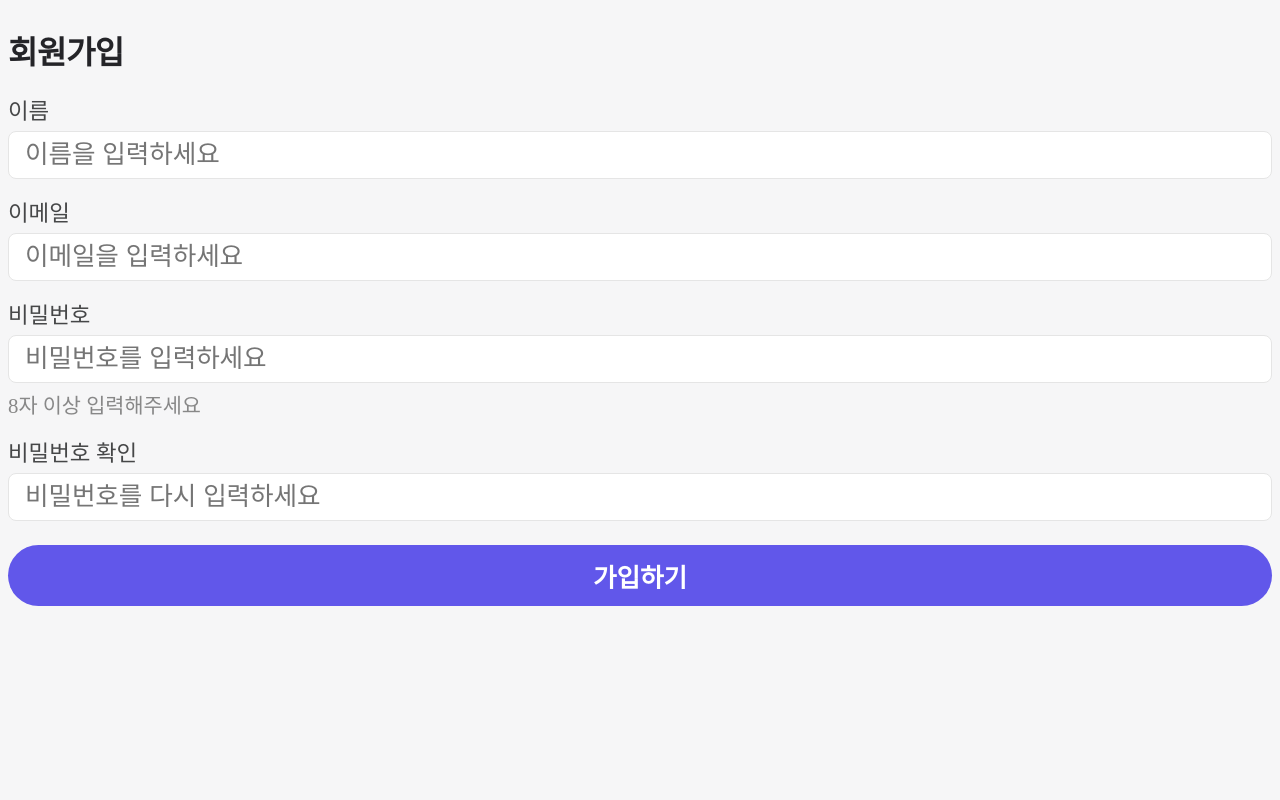
Test: RegisterForm › 비밀번호가 8자 미만이면 에러를 표시한다
Type "테스트" into the field labelled "이름". click: [640, 154]
box: 8,130 -> 1272,178
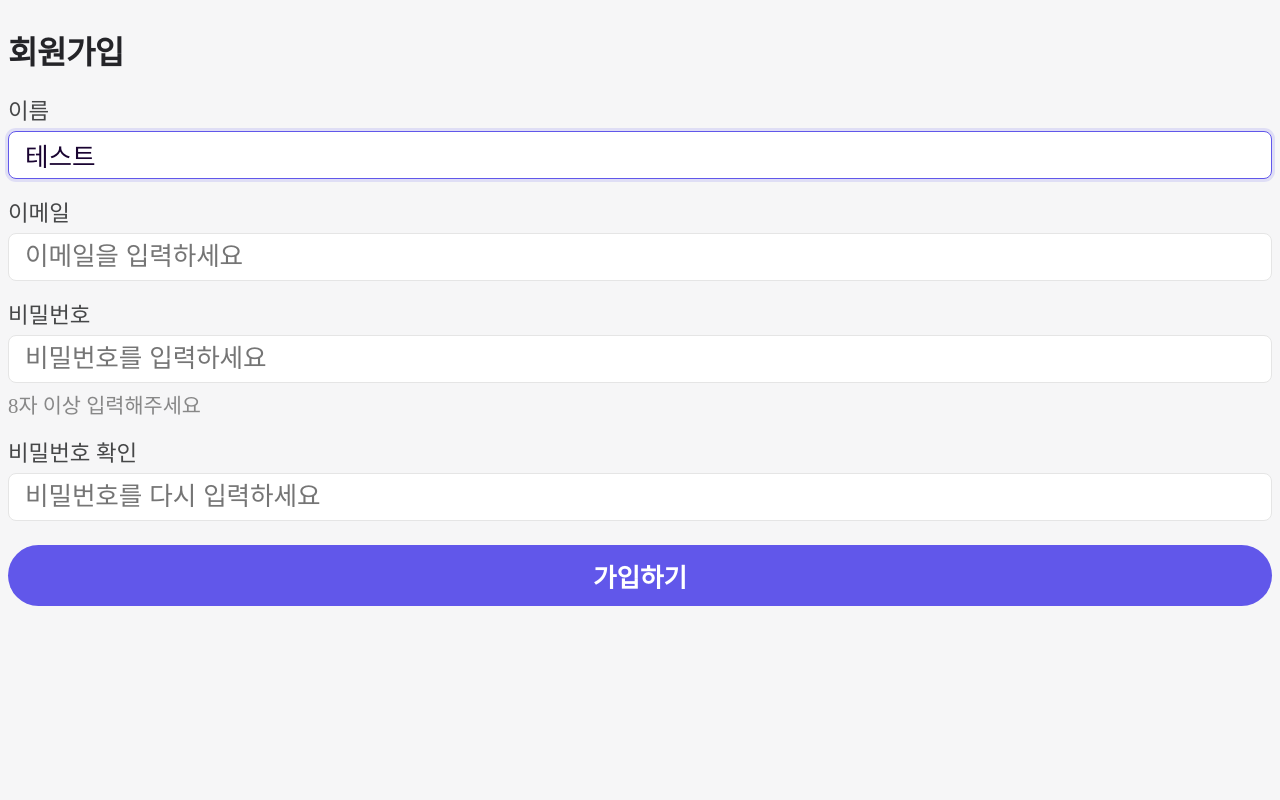
Type "test@example.com" into the field labelled "이메일". click: [640, 256]
box: 8,232 -> 1272,280
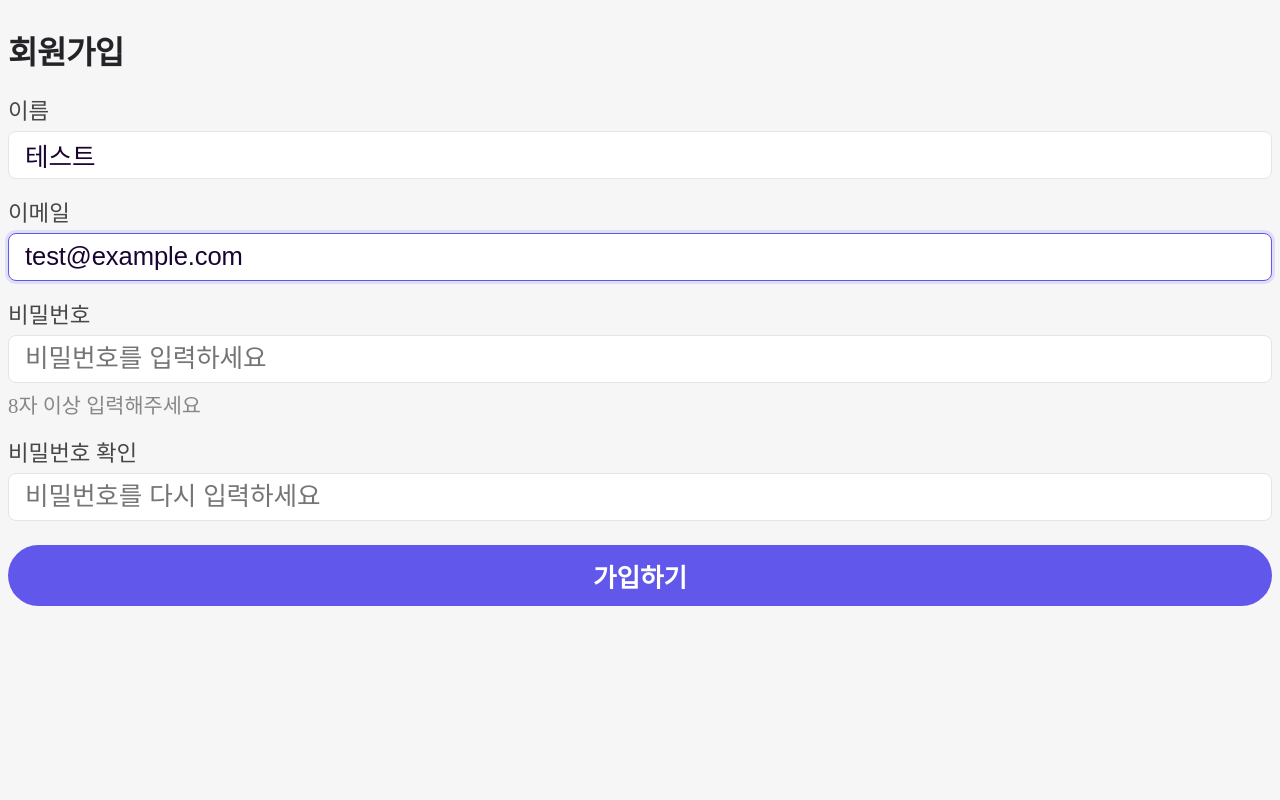
Type "1234567" into the password field labelled "비밀번호". click: [640, 358]
box: 8,334 -> 1272,382
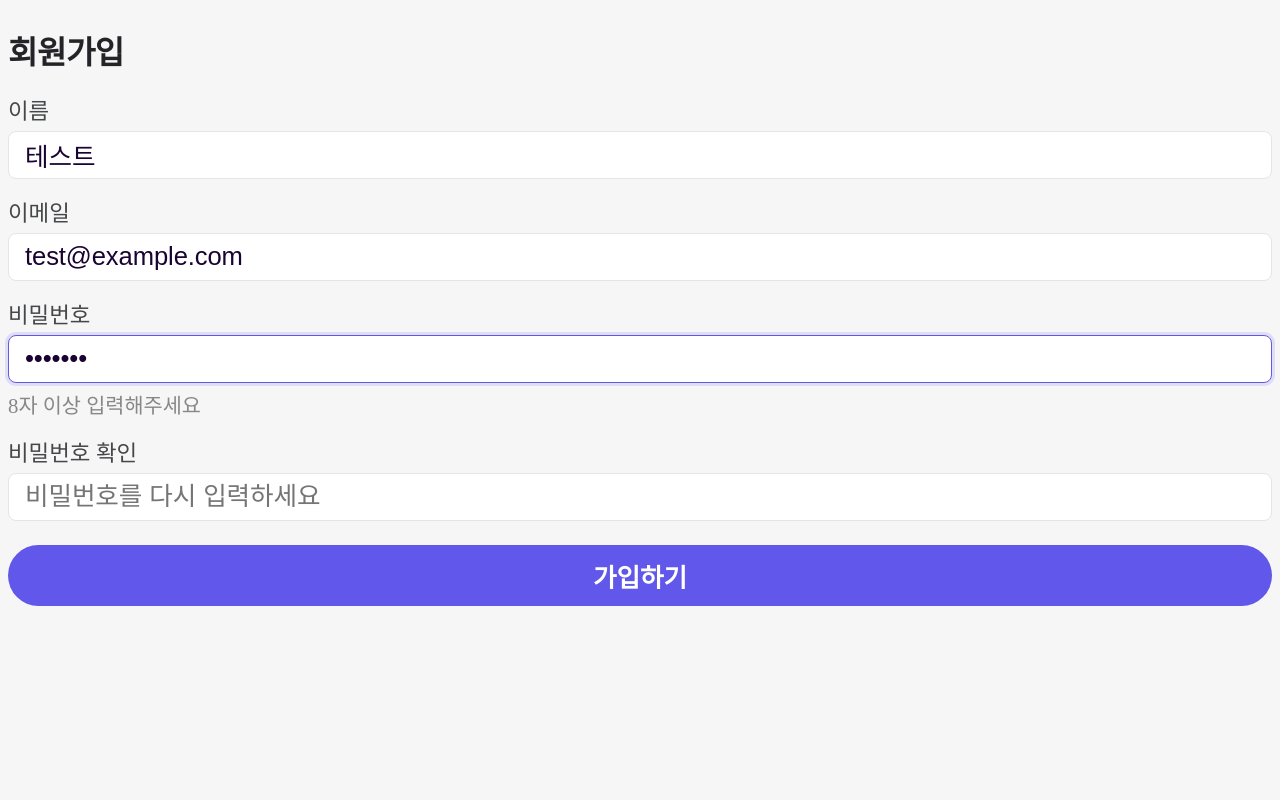
Type "1234567" into the password field labelled "비밀번호 확인". click: [640, 496]
box: 8,472 -> 1272,520
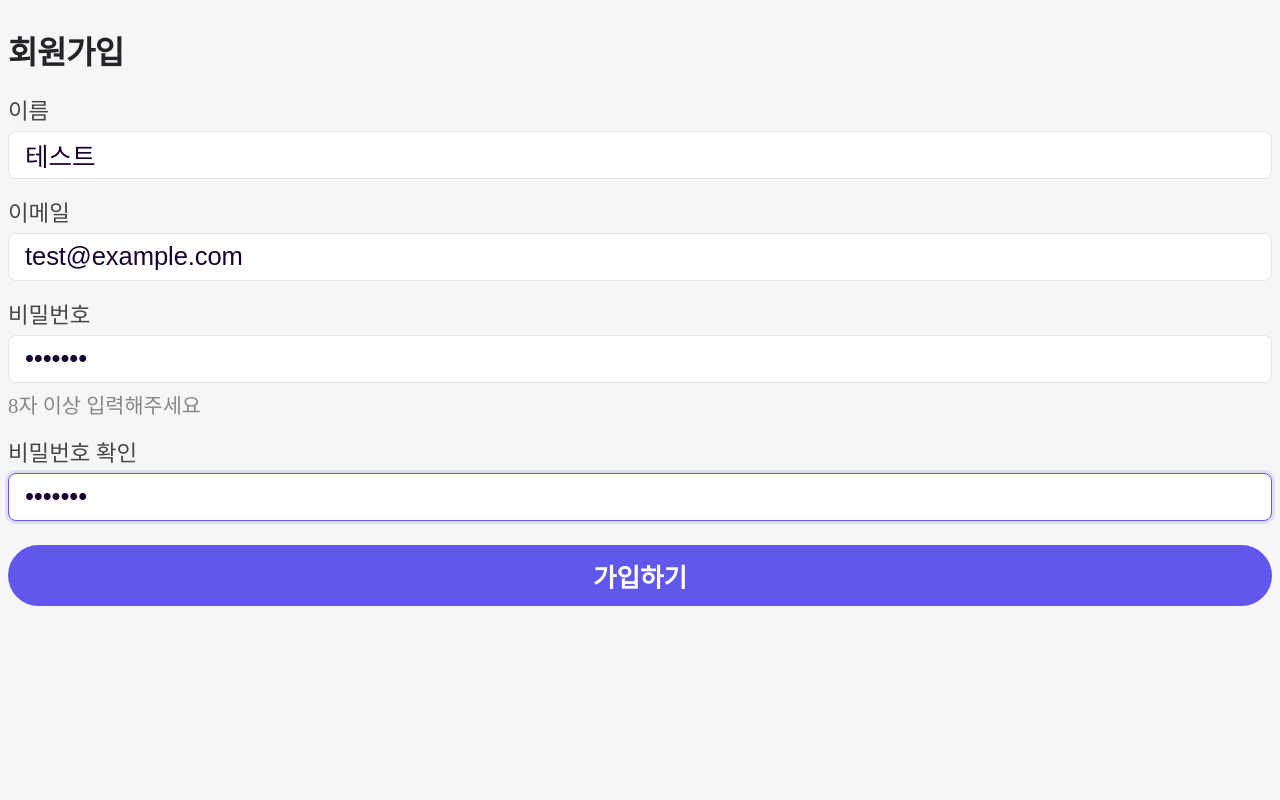
Click the button "가입하기". click: [640, 575]
box: 8,544 -> 1272,606
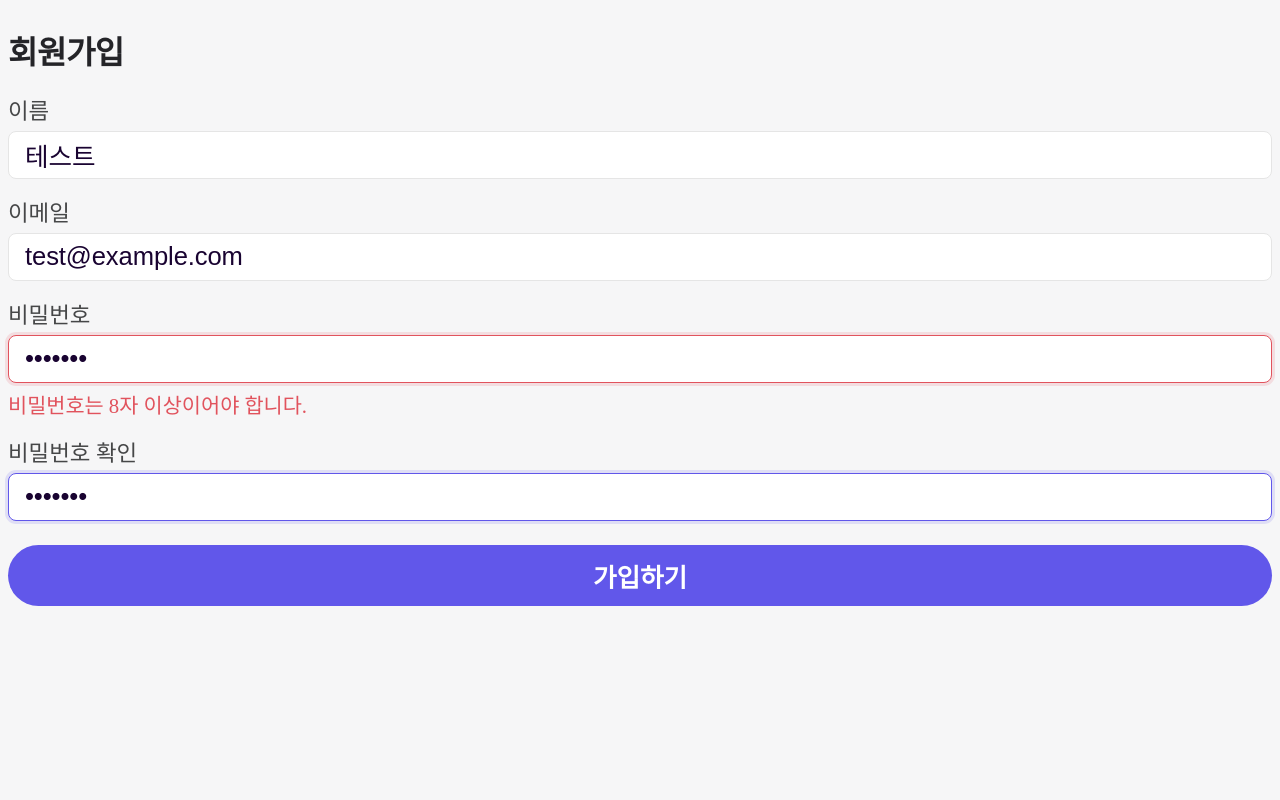
Now the text "비밀번호는 8자 이상이어야 합니다." is shown, box 8,394 -> 307,416
